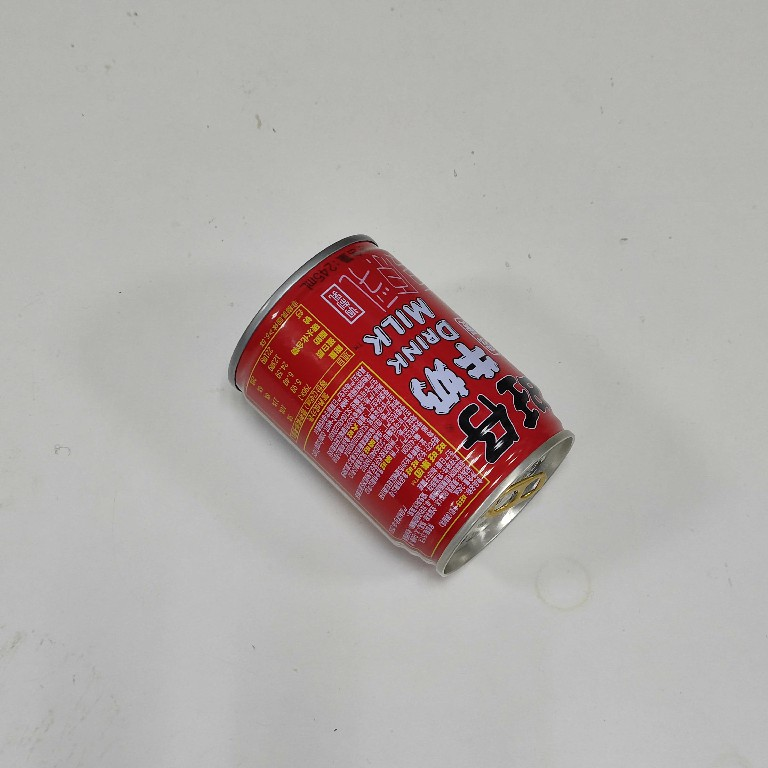can: (212, 220, 582, 595)
